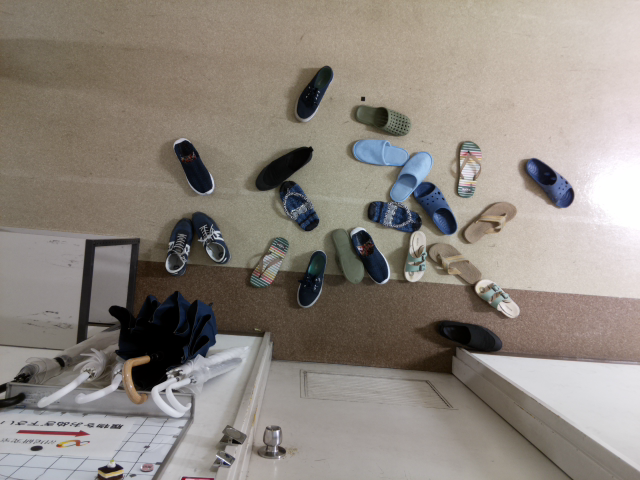Copy of Copy of Copy of Copy of Copy of Copy of Copy of Copy of Copy of Copy of: (419, 236, 493, 292), (450, 195, 524, 251), (345, 219, 396, 295), (323, 219, 373, 295), (426, 311, 508, 356), (381, 145, 436, 208), (406, 177, 461, 236), (469, 269, 528, 321), (447, 131, 490, 201), (338, 132, 419, 168), (396, 226, 436, 294), (359, 197, 425, 236)
Copy of Copy of Copy of Copy of Copy of Copy of Copy of Copy of Copy of shoe: (347, 97, 416, 143)
Copy of Copy of Copy of Copy of Copy of Copy of Copy of Copy of shoe: (248, 139, 320, 199)
Copy of Copy of Copy of Copy of Copy of Copy of Copy of shoe: (278, 173, 321, 234)
Copy of Copy of Copy of Copy of Copy of Copy of shoe: (292, 246, 331, 315)
Copy of Copy of Copy of Copy of Copy of shoe: (242, 229, 293, 300)
Copy of Copy of Copy of Copy of Copy of umbrella: (1, 324, 134, 414)
Copy of Copy of Copy of Copy of shoe: (189, 203, 235, 272)
Copy of Copy of Copy of Copy of umbrella: (27, 326, 126, 415)
Copy of Copy of Copy of shoe: (155, 210, 201, 279)
Copy of Copy of Copy of umbrella: (73, 339, 157, 417)
Copy of Copy of shoe: (519, 151, 580, 214)
Copy of Copy of umbrella: (94, 287, 225, 410)
Copy of shoe: (289, 59, 340, 127)
Copy of umbrella: (163, 349, 266, 423)
shoe: (168, 130, 220, 198)
umbrella: (142, 330, 261, 419)
